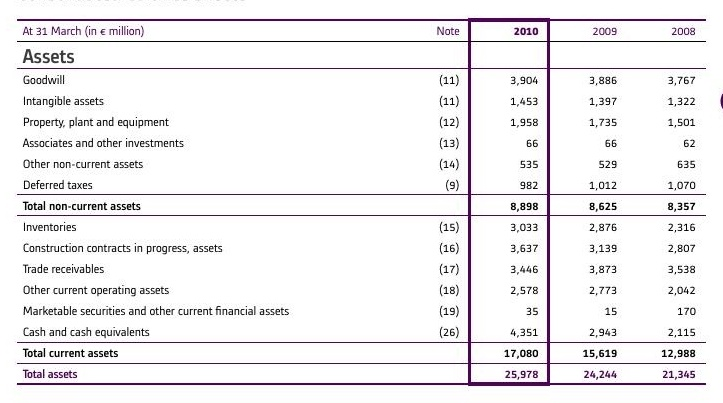table: (0, 0, 723, 403)
